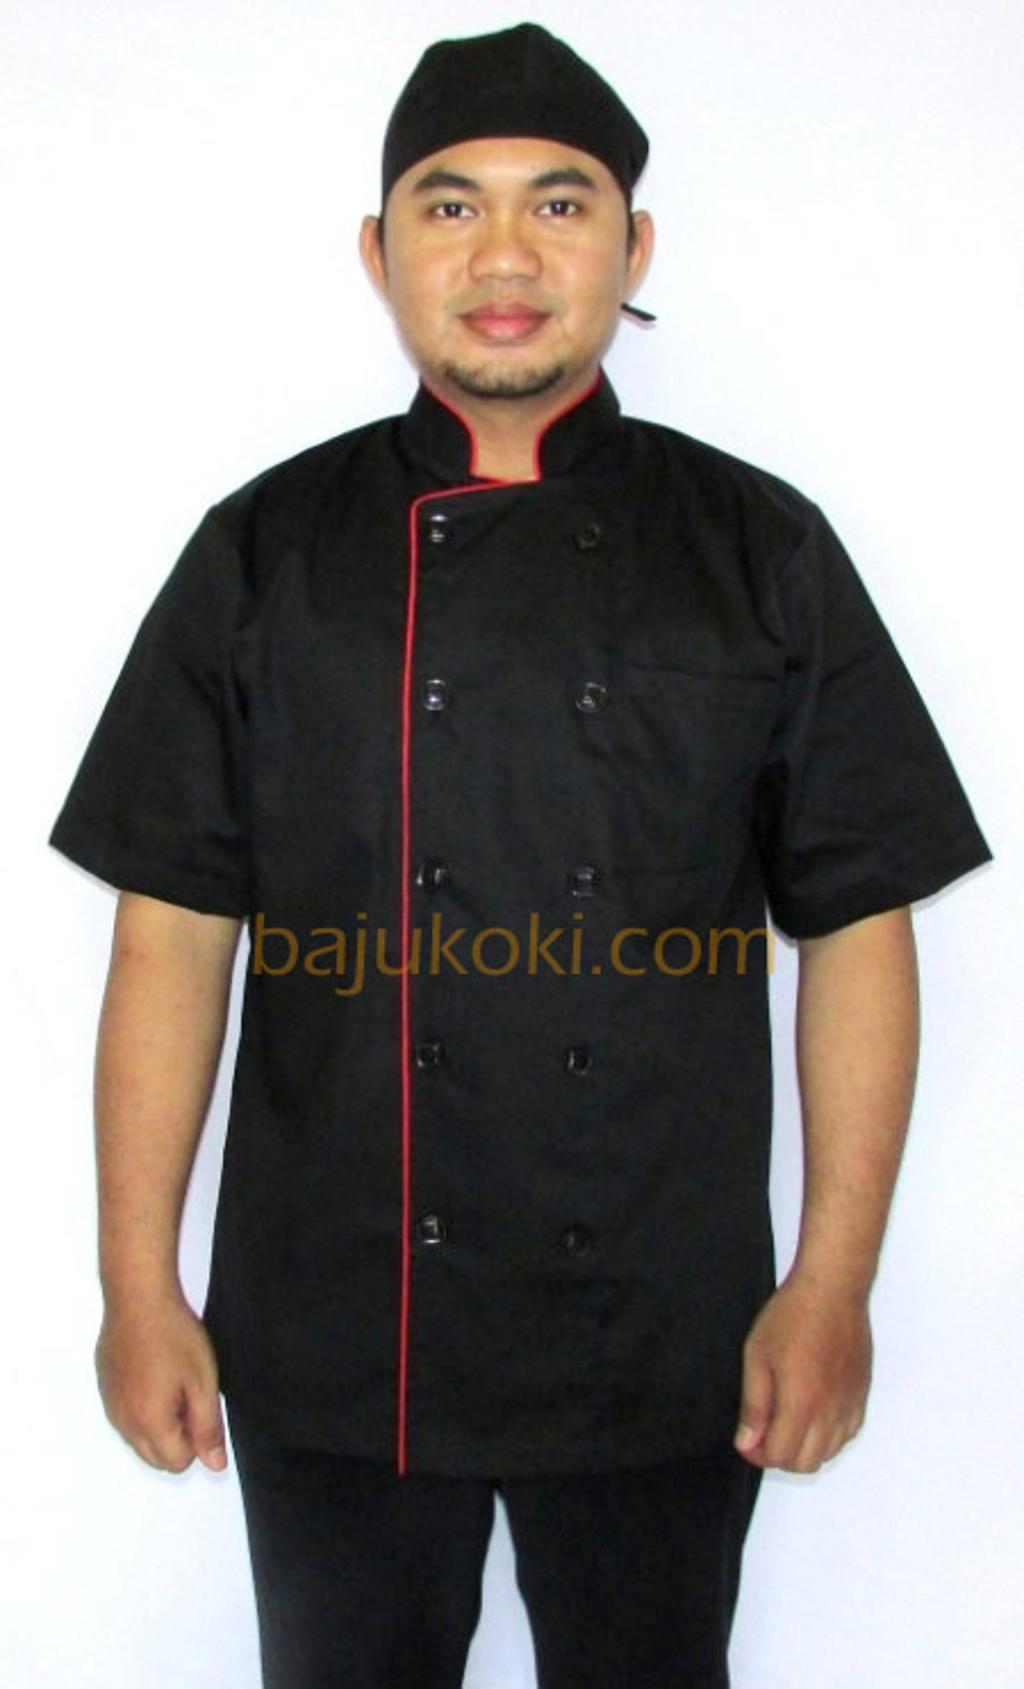face: (385, 95, 625, 391)
